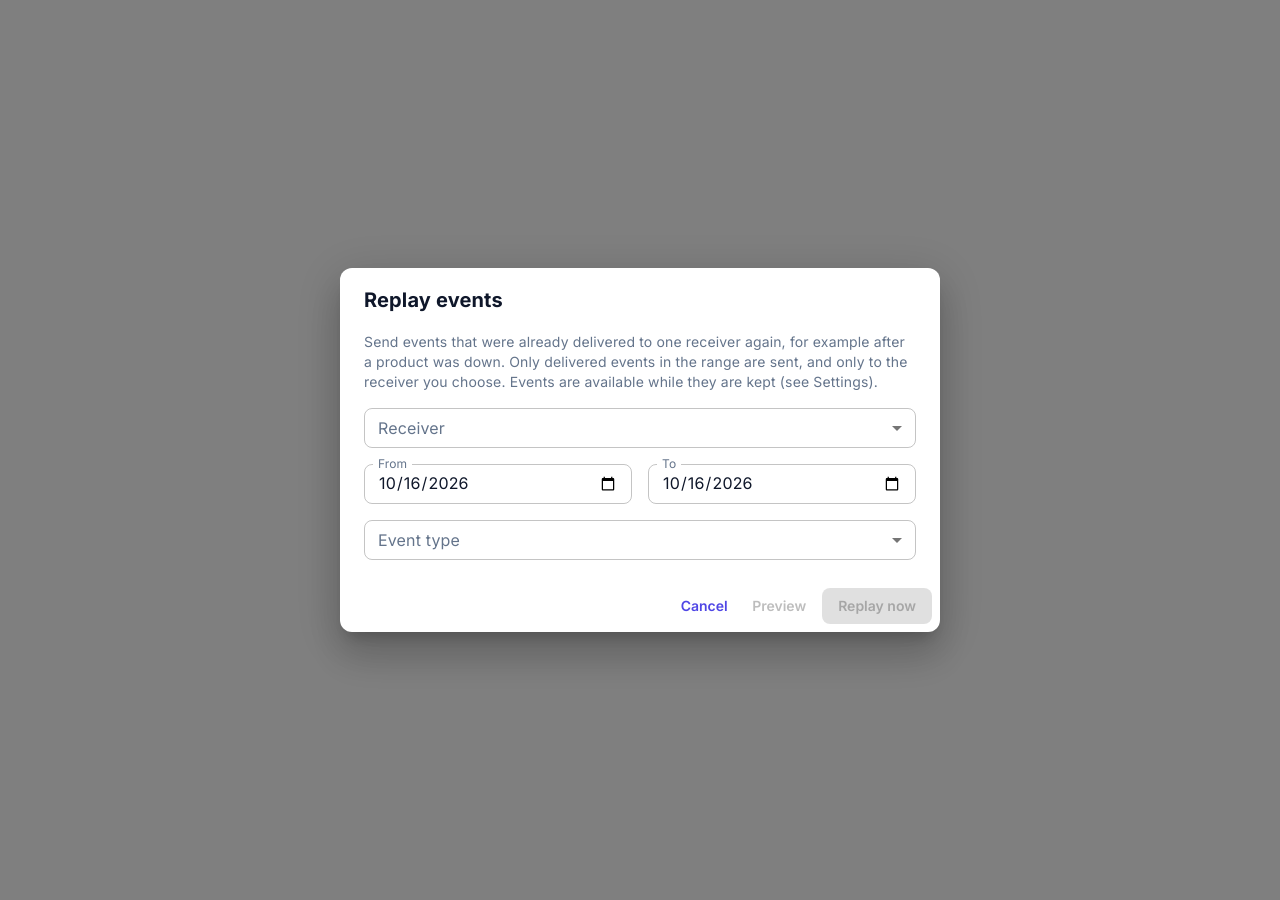
EventReplayDialog › refuses a range that ends before it starts
Click the 1st dropdown named "Receiver": (640, 428) [364,408,916,448]
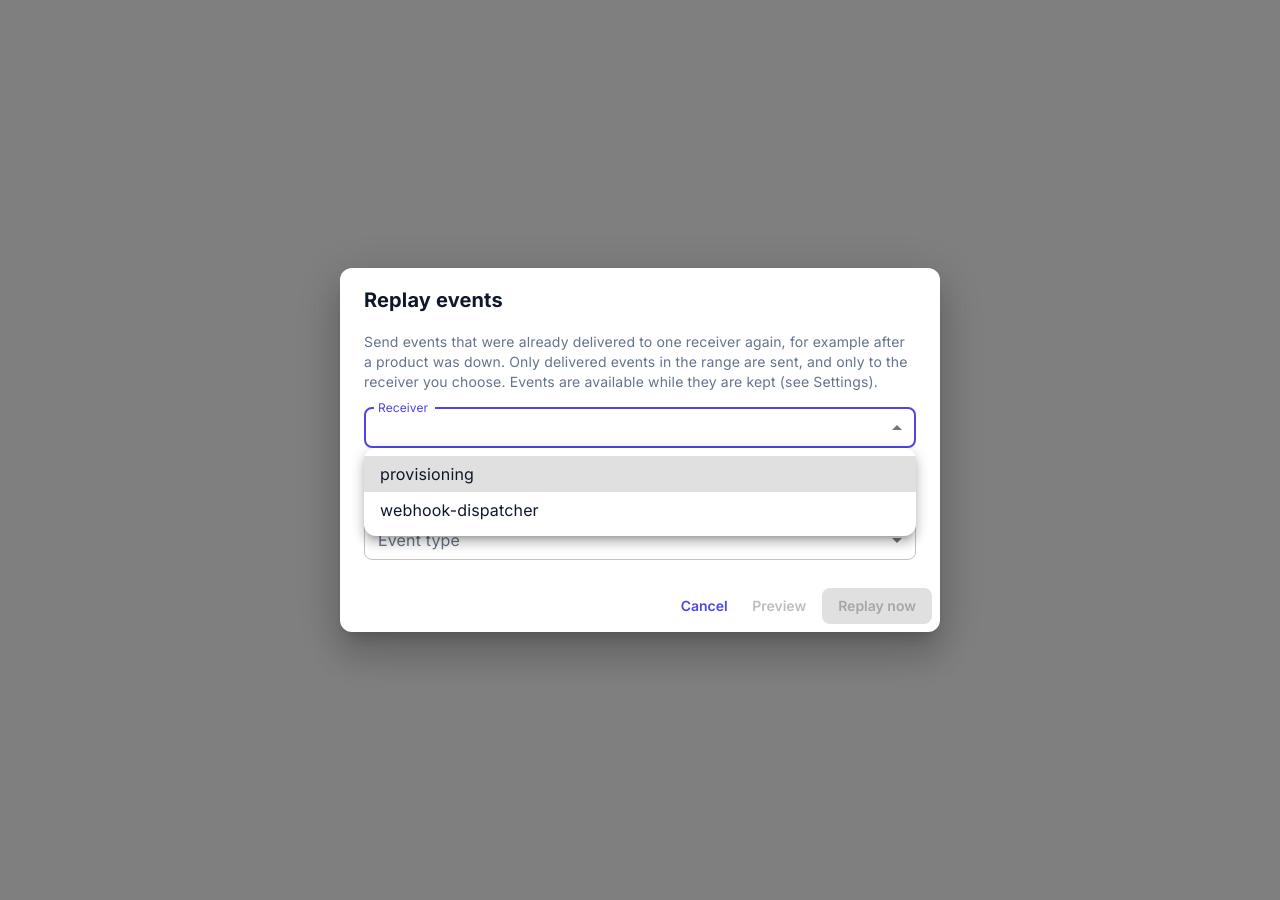
Click the option "provisioning": (427, 474) [364,456,916,492]
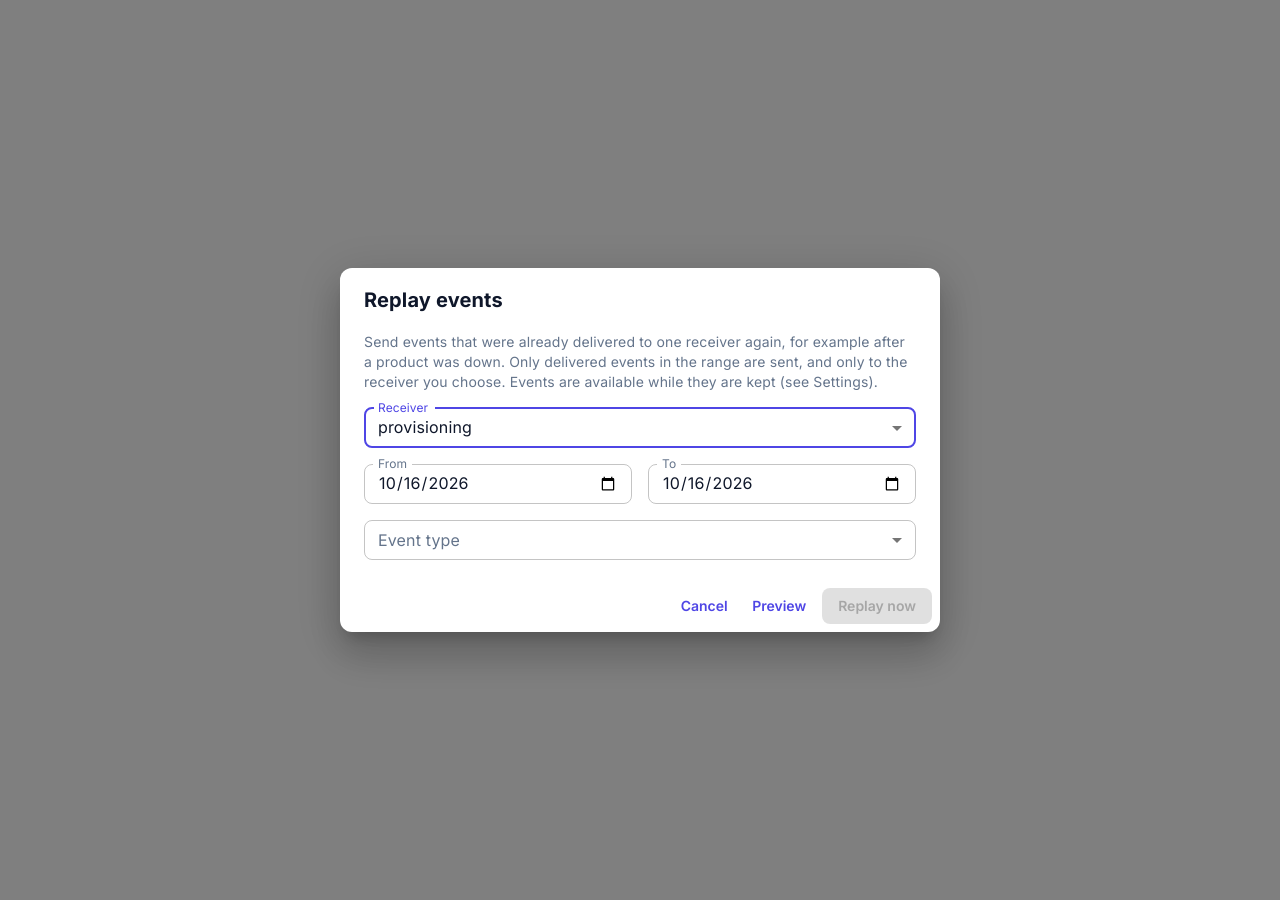
In the date field labelled "To": (782, 484) [648,464,916,504], type "2020-01-01"
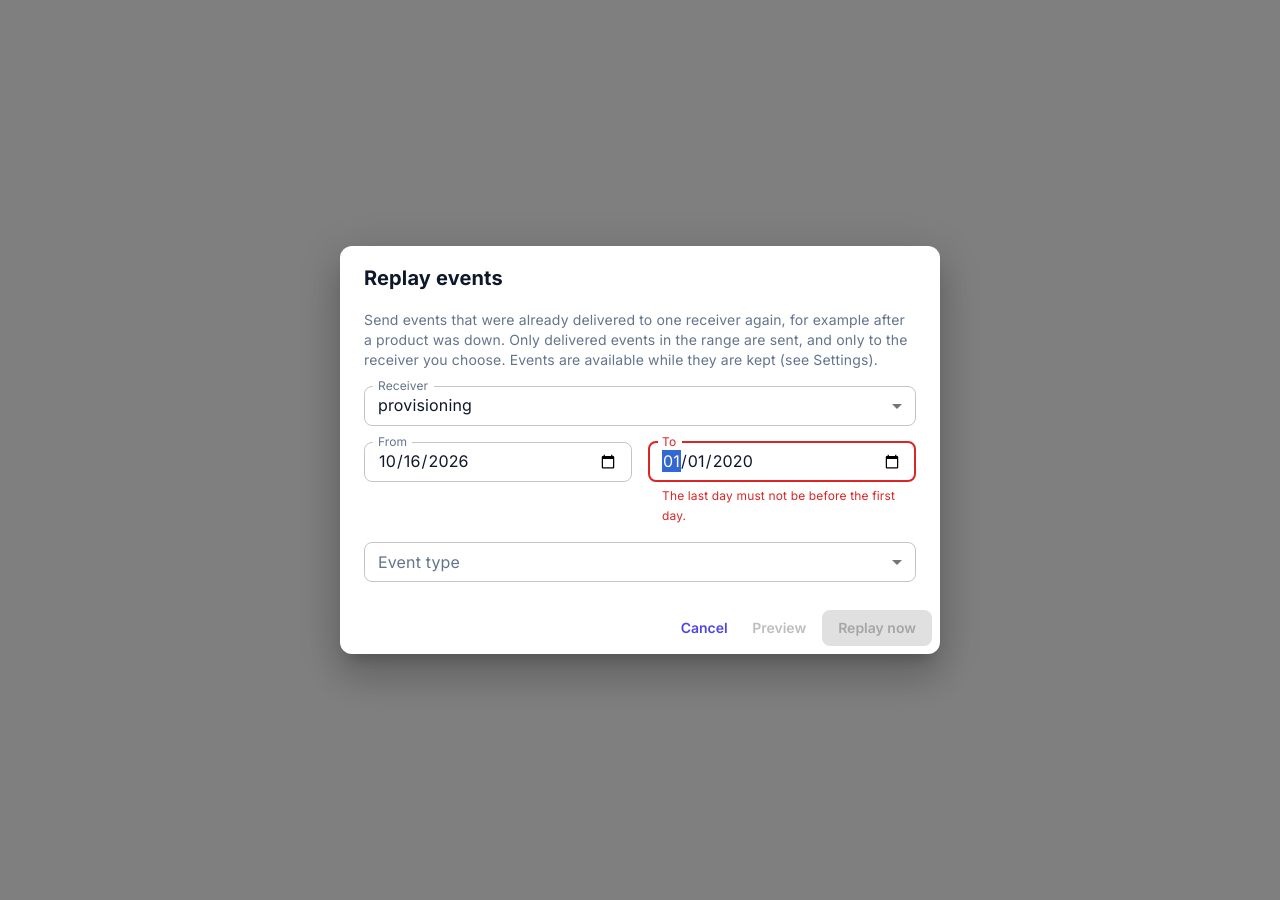
Now the button "Preview" is disabled, box [744,610,814,646]
Now the text "The last day must not be before the first day." is shown, box [662,486,902,526]
